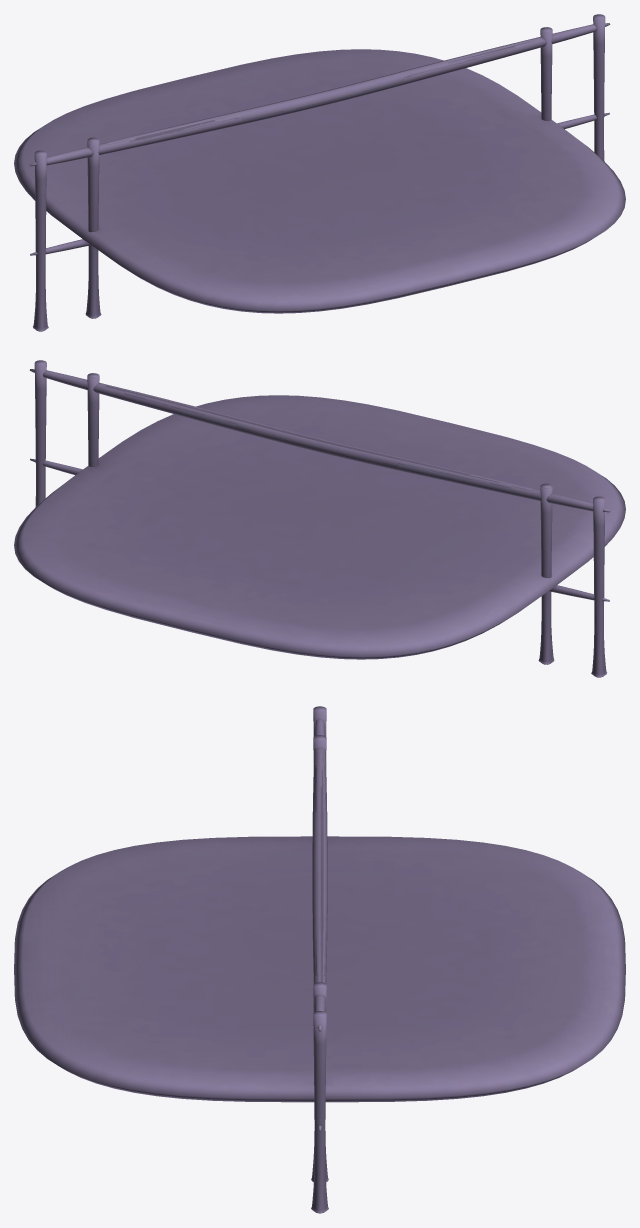
File: lift_head.glb
The picture shows the model from 3 angles, top to bottom: view 1: azimuth 30°, elevation 25°; view 2: azimuth 150°, elevation 25°; view 3: azimuth 270°, elevation 25°; orthographic projection. The views are drawn at different scales.
Parts seen in each view (by area): view 1: lift_pad, lift_gate_4_4, lift_rail_3_6; view 2: lift_pad, lift_gate_4_4, lift_rail_3_6; view 3: lift_pad, lift_gate_4_4, lift_rail_3_6.
Part boxes in pixels (box(x1,y1,x2,y2)): lift_pad: box(14, 49, 625, 313); lift_gate_4_4: box(30, 14, 610, 331); lift_rail_3_6: box(85, 27, 552, 318); lift_pad: box(14, 395, 625, 659); lift_gate_4_4: box(29, 360, 609, 677); lift_rail_3_6: box(87, 373, 554, 664); lift_pad: box(14, 836, 625, 1102); lift_gate_4_4: box(311, 706, 328, 1213); lift_rail_3_6: box(311, 735, 328, 1182).
Bounding box in the file's own units: 4.4 × 1.27 × 3.6.
1 material, 1 textured.
